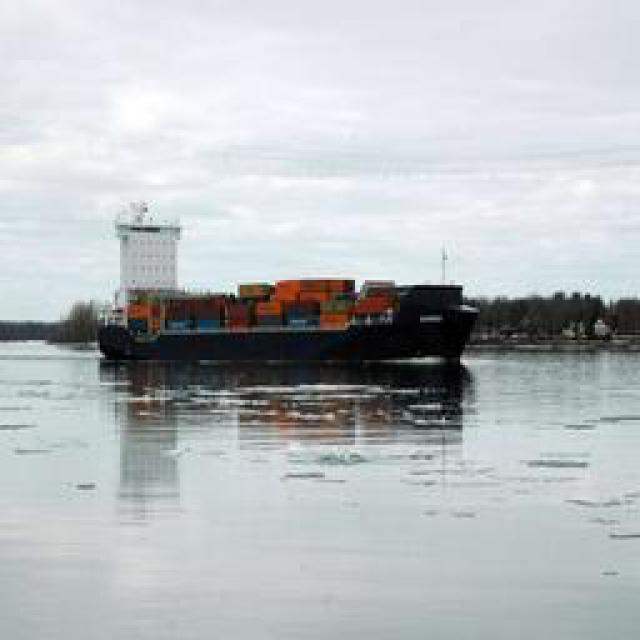Ship: (107, 276, 480, 366)
